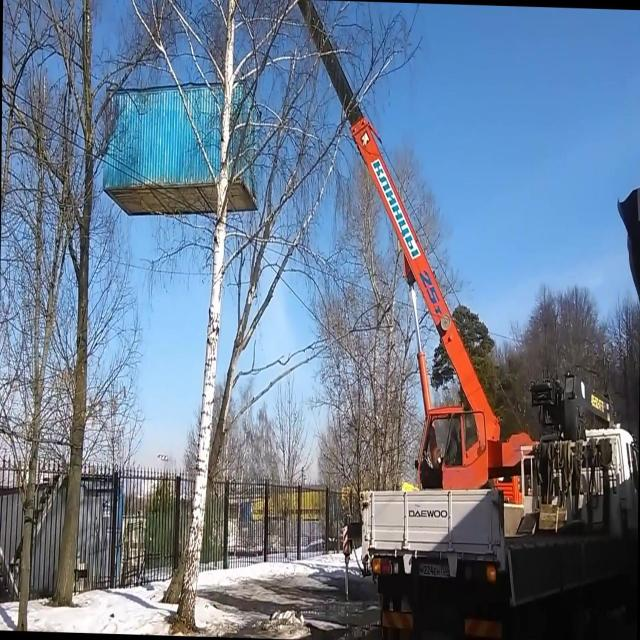crane: (289, 0, 640, 640)
